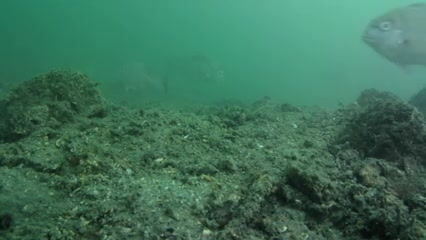smallfish: (357, 7, 419, 76)
